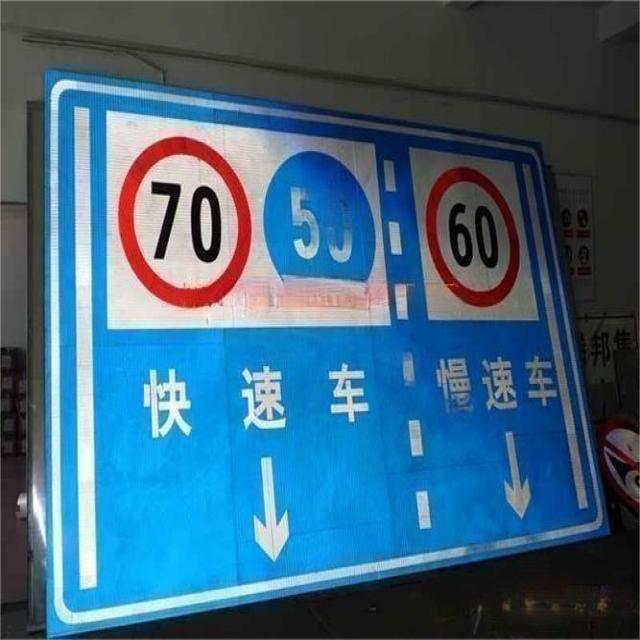speed limit 60: (424, 165, 521, 310)
speed limit 70: (117, 135, 254, 308)
